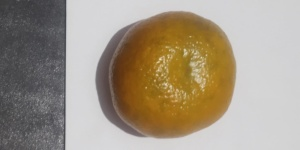BAD: (104, 7, 240, 141)
